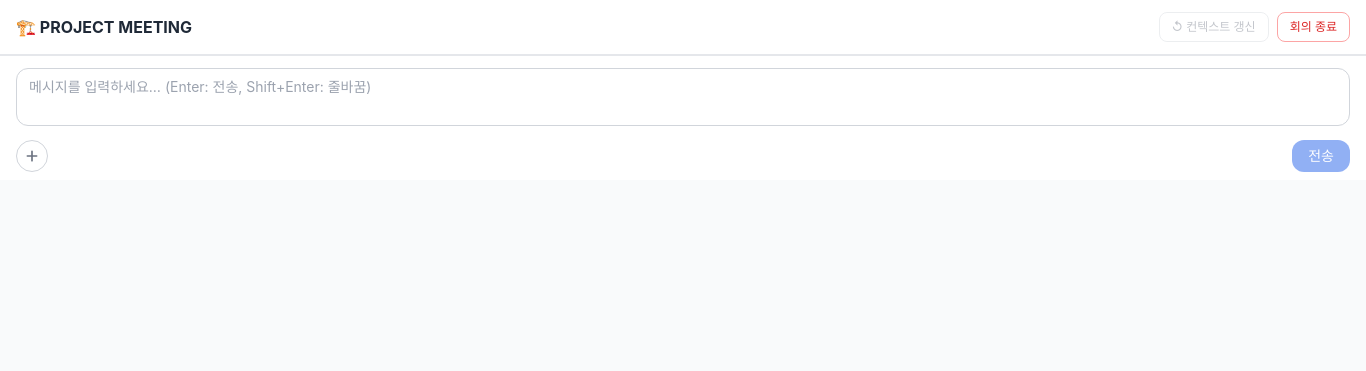
Test: MeetingApp › Enter 키로도 전송되어야 한다
Type "엔터 테스트" into the text box with placeholder "메시지를 입력하세요… (Enter: 전송, Shift+Enter: 줄바꿈)" at (683, 97), box [16,68,1350,126]
Then press Enter
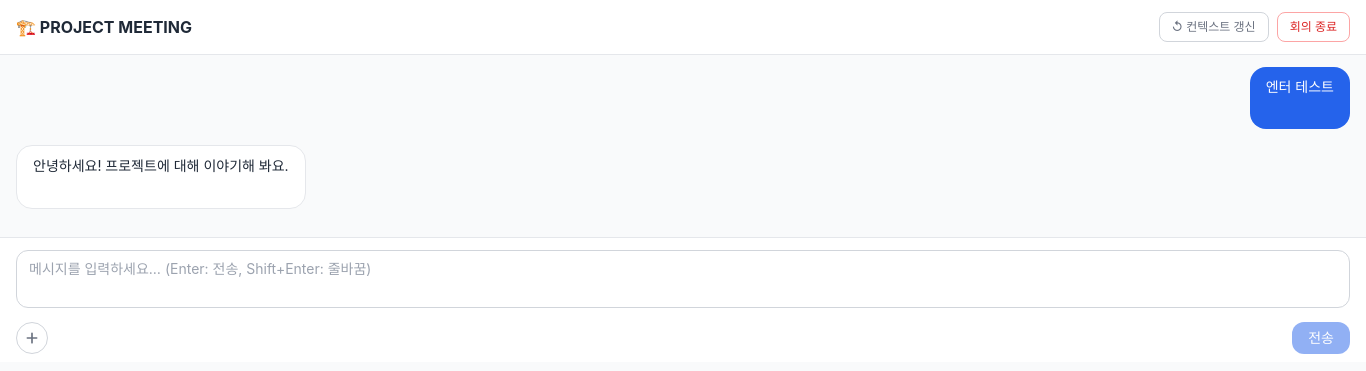
Expected: the text "엔터 테스트" is shown, [1250,67,1350,129]
